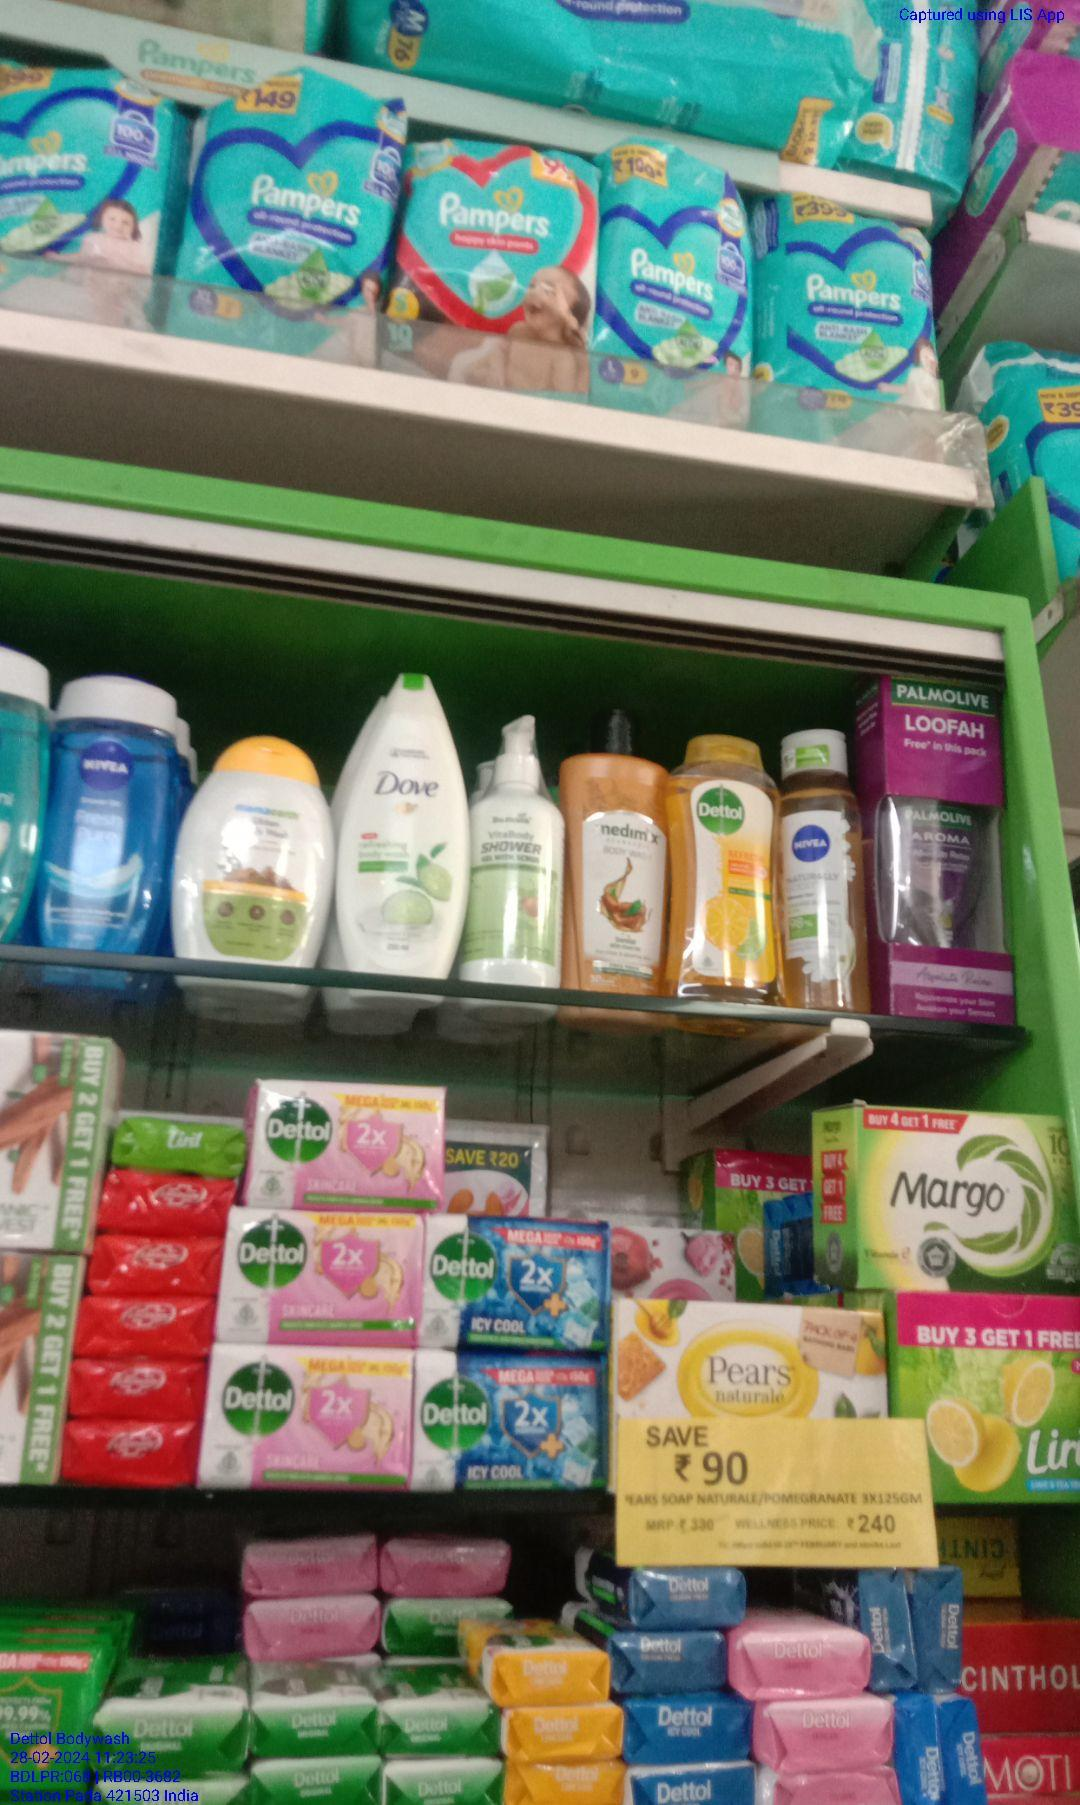Dettol_Bodywash_Refresh: (671, 729, 777, 1008)
Dove_Refreshing_Body_Wash_250ML: (348, 666, 471, 982)
